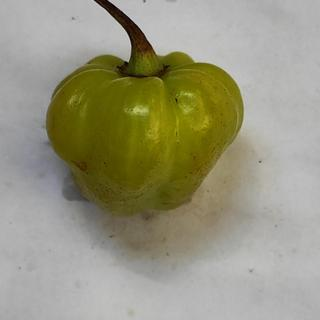Grade-B: (38, 44, 249, 217)
